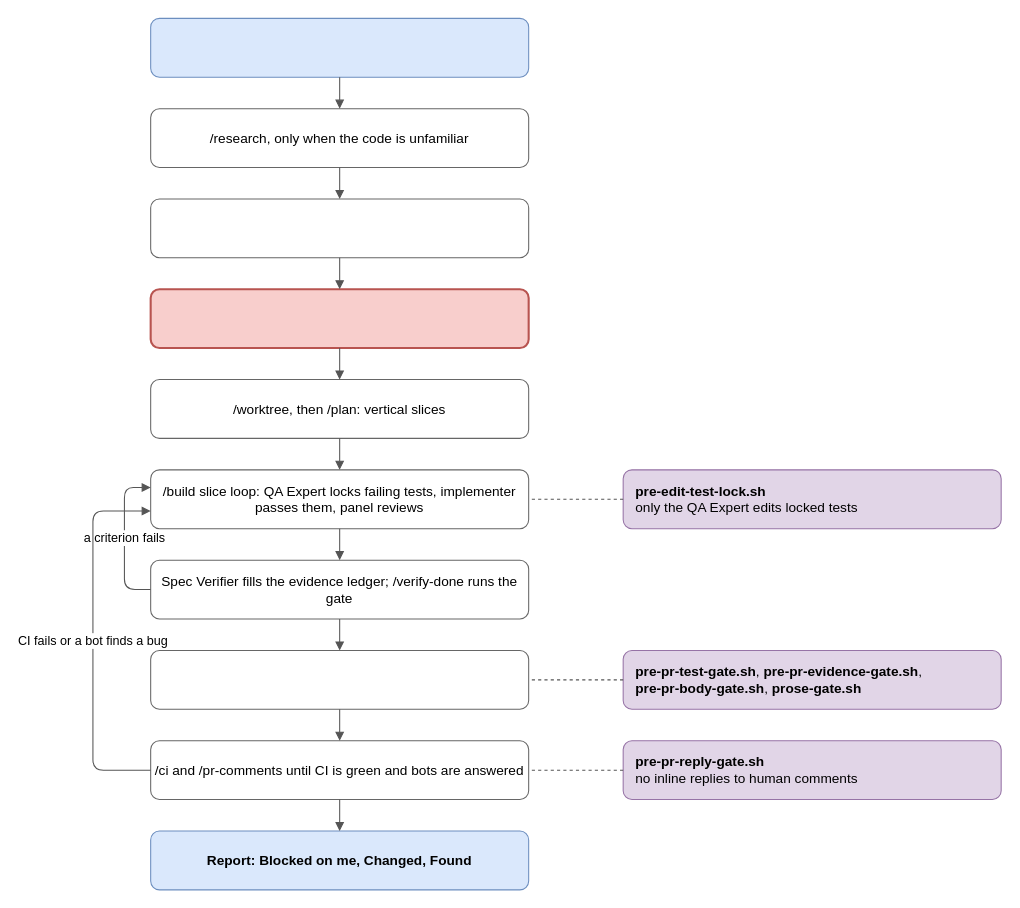
This 1020x908 diagram has some shape labels left out. Here are the shapes that lost their labels. From the top down, the centre of each, then its label:
At point (339, 47): "/deliver <goal>, typed by the user".
At point (339, 228): "/spec: acceptance criteria, each with a check".
At point (339, 318): "The user approves the spec".
At point (339, 679): "/mr opens the pull request".
